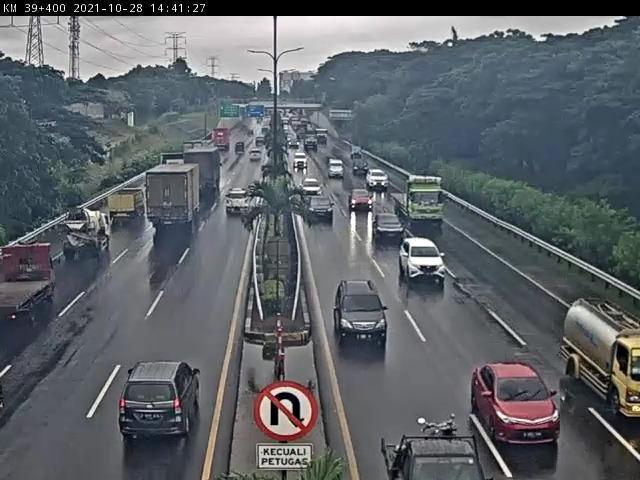car: (470, 363, 565, 448), (120, 361, 203, 439), (332, 280, 388, 347), (401, 238, 447, 286), (372, 214, 406, 245), (305, 196, 335, 224), (226, 188, 253, 216), (348, 190, 374, 212)
truck: (562, 298, 640, 422), (1, 242, 61, 323), (145, 164, 202, 227), (388, 171, 446, 228), (61, 205, 114, 257), (108, 189, 146, 222)
